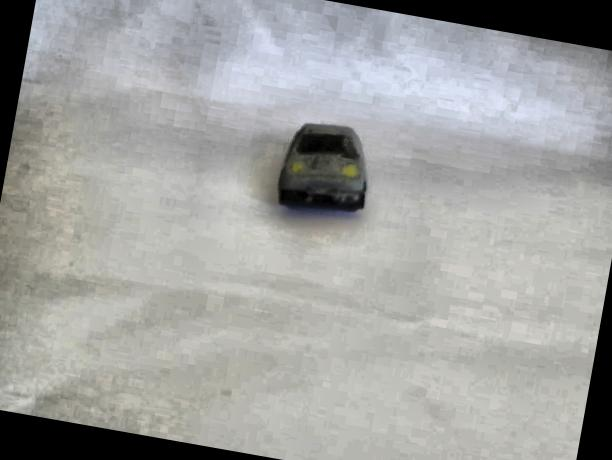normal_car: (272, 112, 380, 219)
